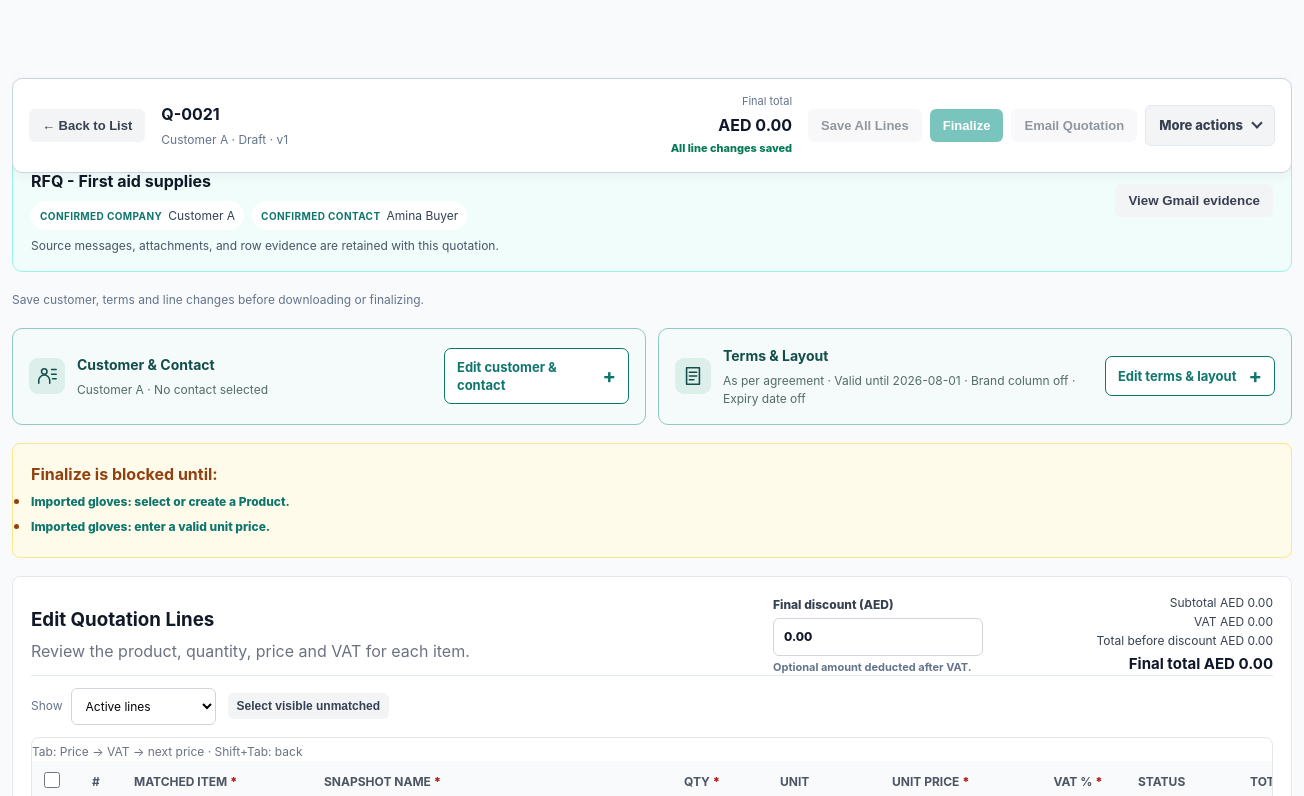
Test case: QuotationEditor Product price context › shows retained Gmail source confirmation and opens its evidence
Expected: the text "RFQ - First aid supplies" is shown, [31,171,211,191]
Expected: the text "Customer A" is shown, [168,208,235,223]
Click the button "View Gmail evidence" at (1194, 201), box [1115,184,1273,217]
(page scrolled)
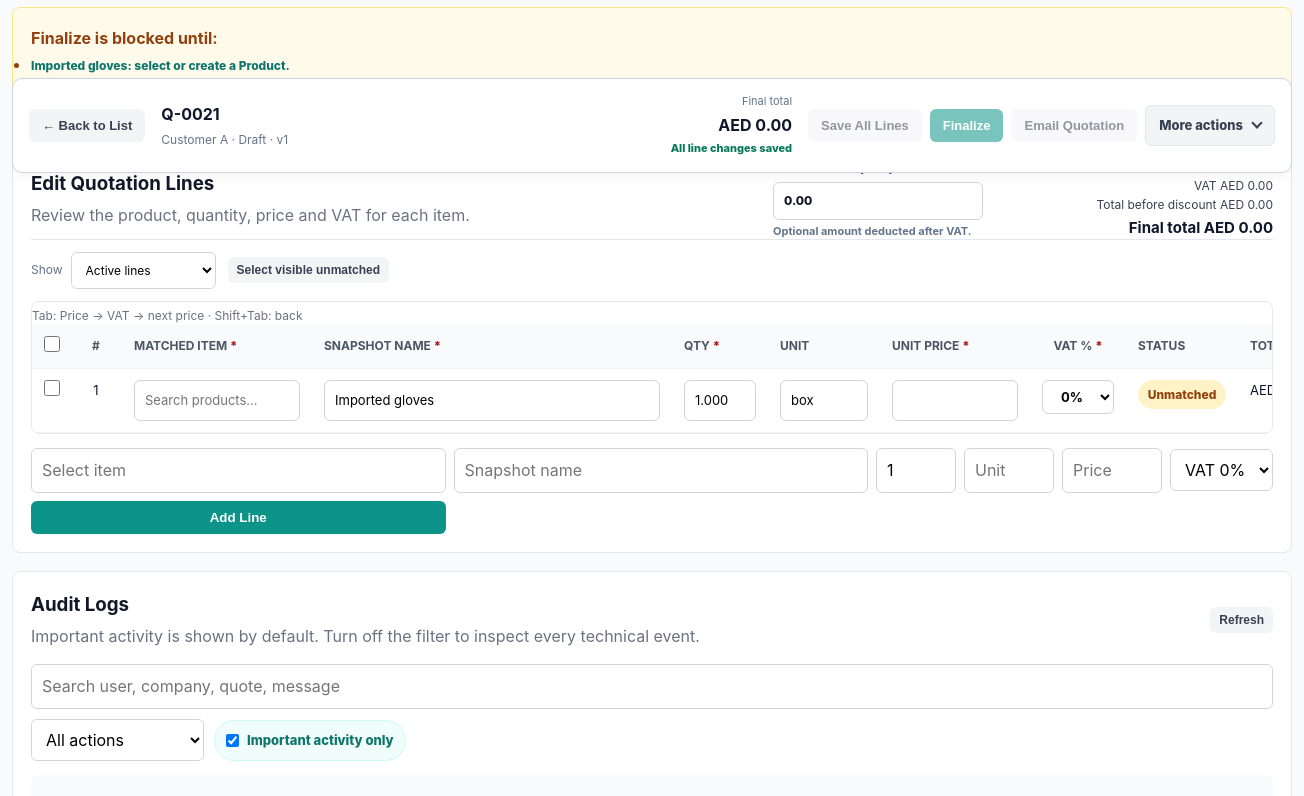
Type "12.50" into the number field named "Unit price for Imported gloves" at (955, 400), box [892,380,1018,421]
(page scrolled)
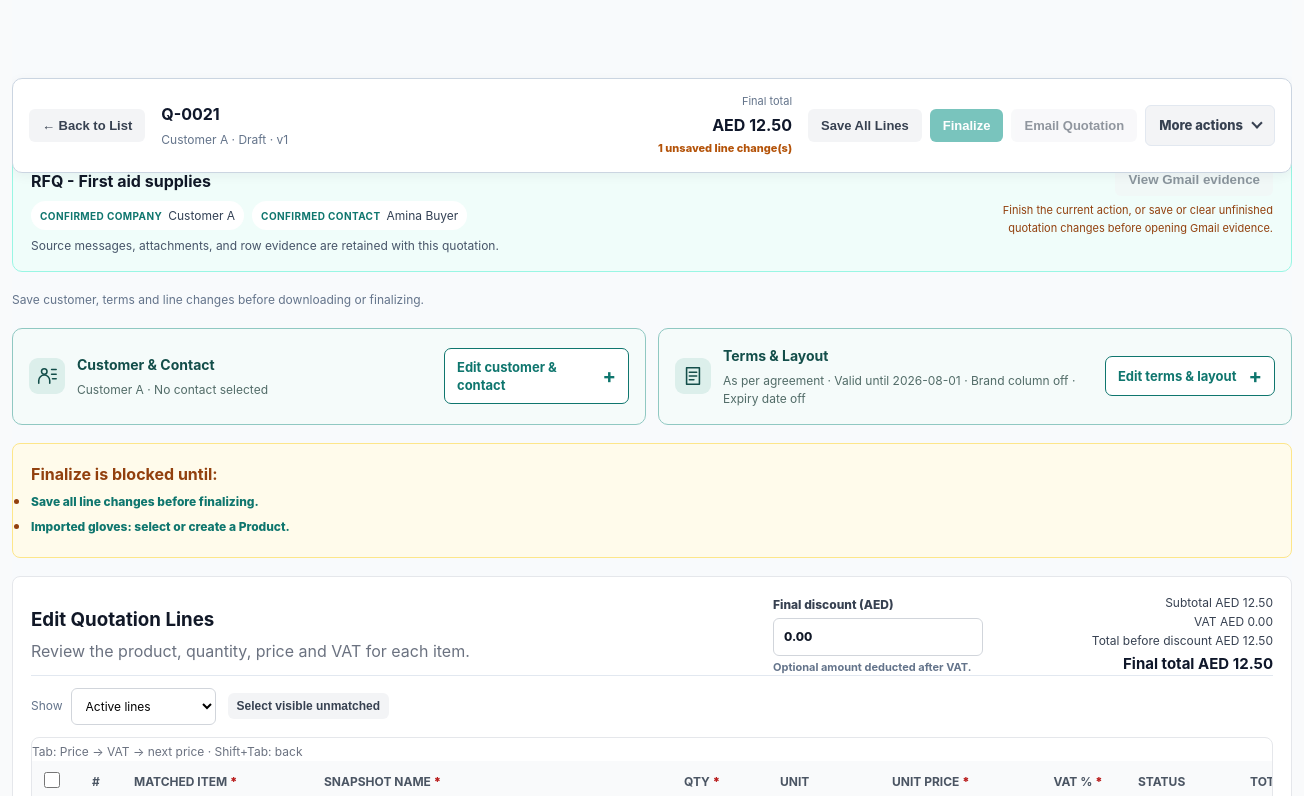
Result: the button "View Gmail evidence" is disabled at [1115,164,1273,196]
Result: the text "Finish the current action, or save or clear unfinished quotation changes before opening Gmail evidence." is shown at [1003,204,1273,235]
